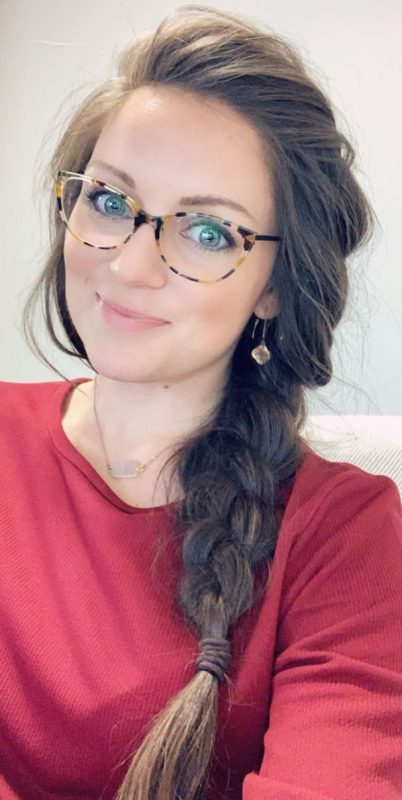glasses: (46, 160, 274, 292)
